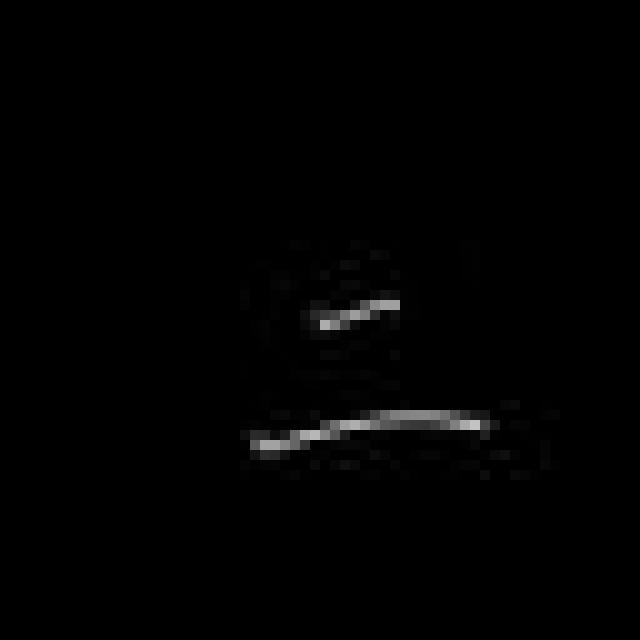2 -two-: (231, 284, 494, 468)
